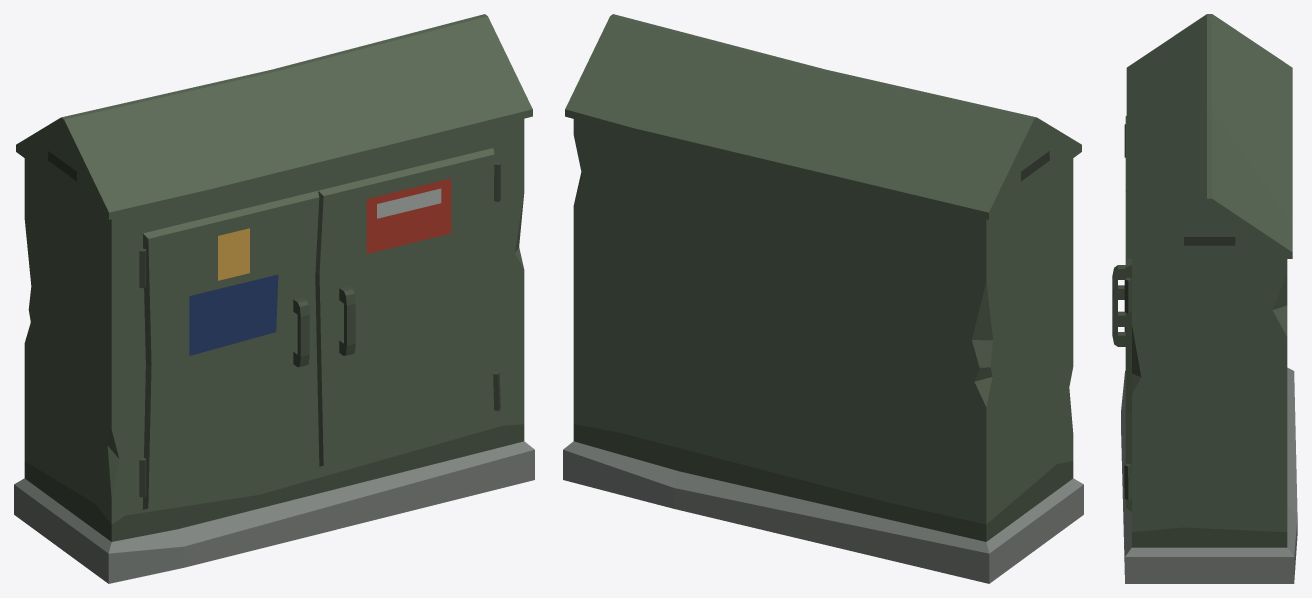
Rendered from SM_Prop_PowerBox_01.fbx.
3 renders of one model, left to right at view 1: azimuth 30°, elevation 25°; view 2: azimuth 150°, elevation 25°; view 3: azimuth 270°, elevation 25°, orthographic. The views are drawn at different scales.
Visible parts, largest first — view 1: SM_Prop_PowerBox_01; view 2: SM_Prop_PowerBox_01; view 3: SM_Prop_PowerBox_01.
Part boxes in pixels (x1,y1,x2,y2): SM_Prop_PowerBox_01: (14, 14, 534, 583); SM_Prop_PowerBox_01: (563, 14, 1083, 583); SM_Prop_PowerBox_01: (1112, 14, 1297, 583).
Bounding box in the file's own units: 197 × 190 × 83.04.
